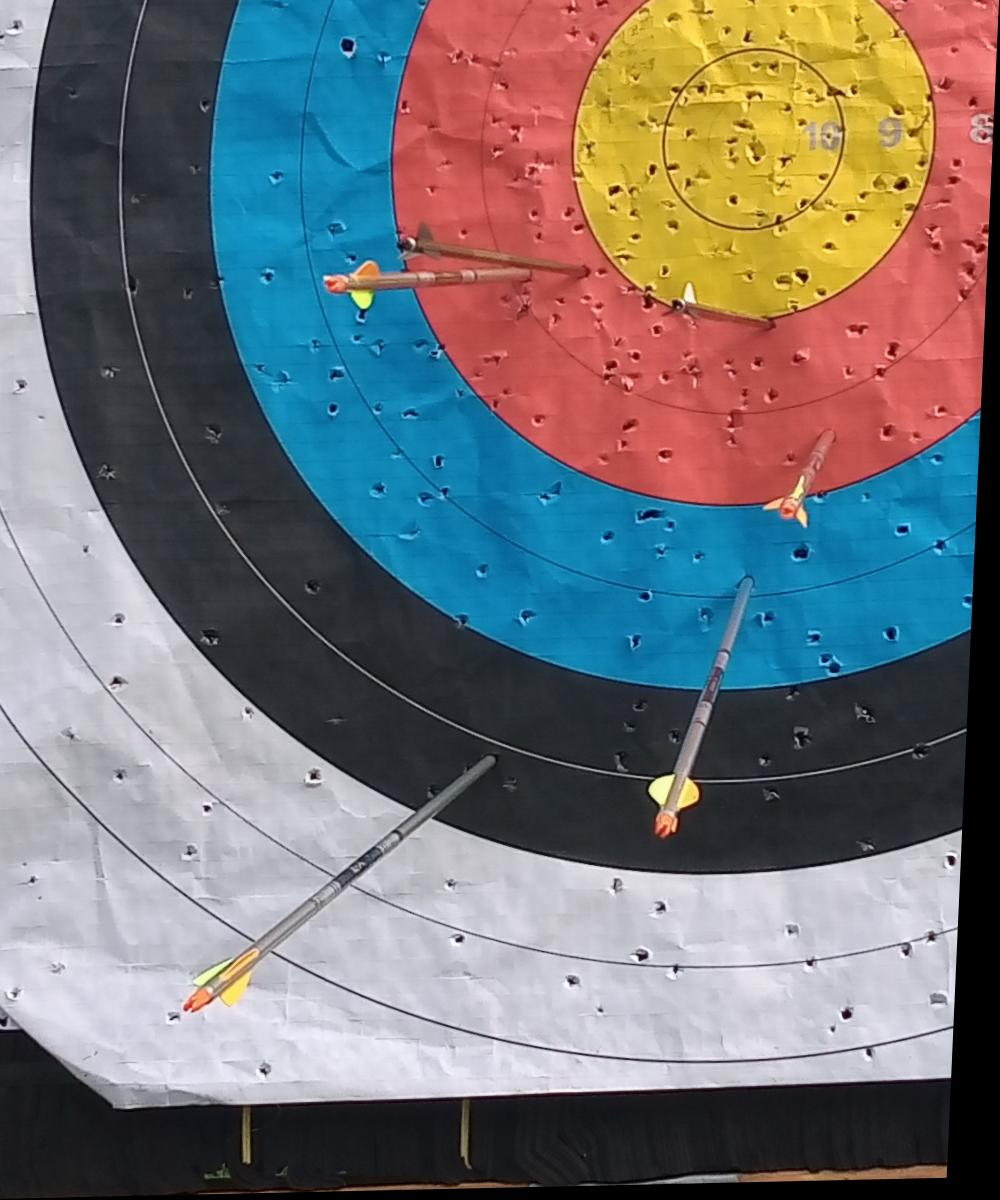10-Ring: (662, 52, 847, 237)
3-Ring: (31, 0, 999, 879)
4-Ring: (119, 0, 999, 785)
5-Ring: (212, 0, 999, 693)
6-Ring: (302, 0, 999, 600)
7-Ring: (393, 0, 999, 508)
8-Ring: (481, 0, 999, 418)
9-Ring: (574, 0, 937, 325)
Arrow: (184, 732, 505, 1031), (643, 574, 780, 848), (325, 235, 534, 317), (397, 221, 593, 282), (766, 424, 840, 533), (665, 283, 778, 332)
